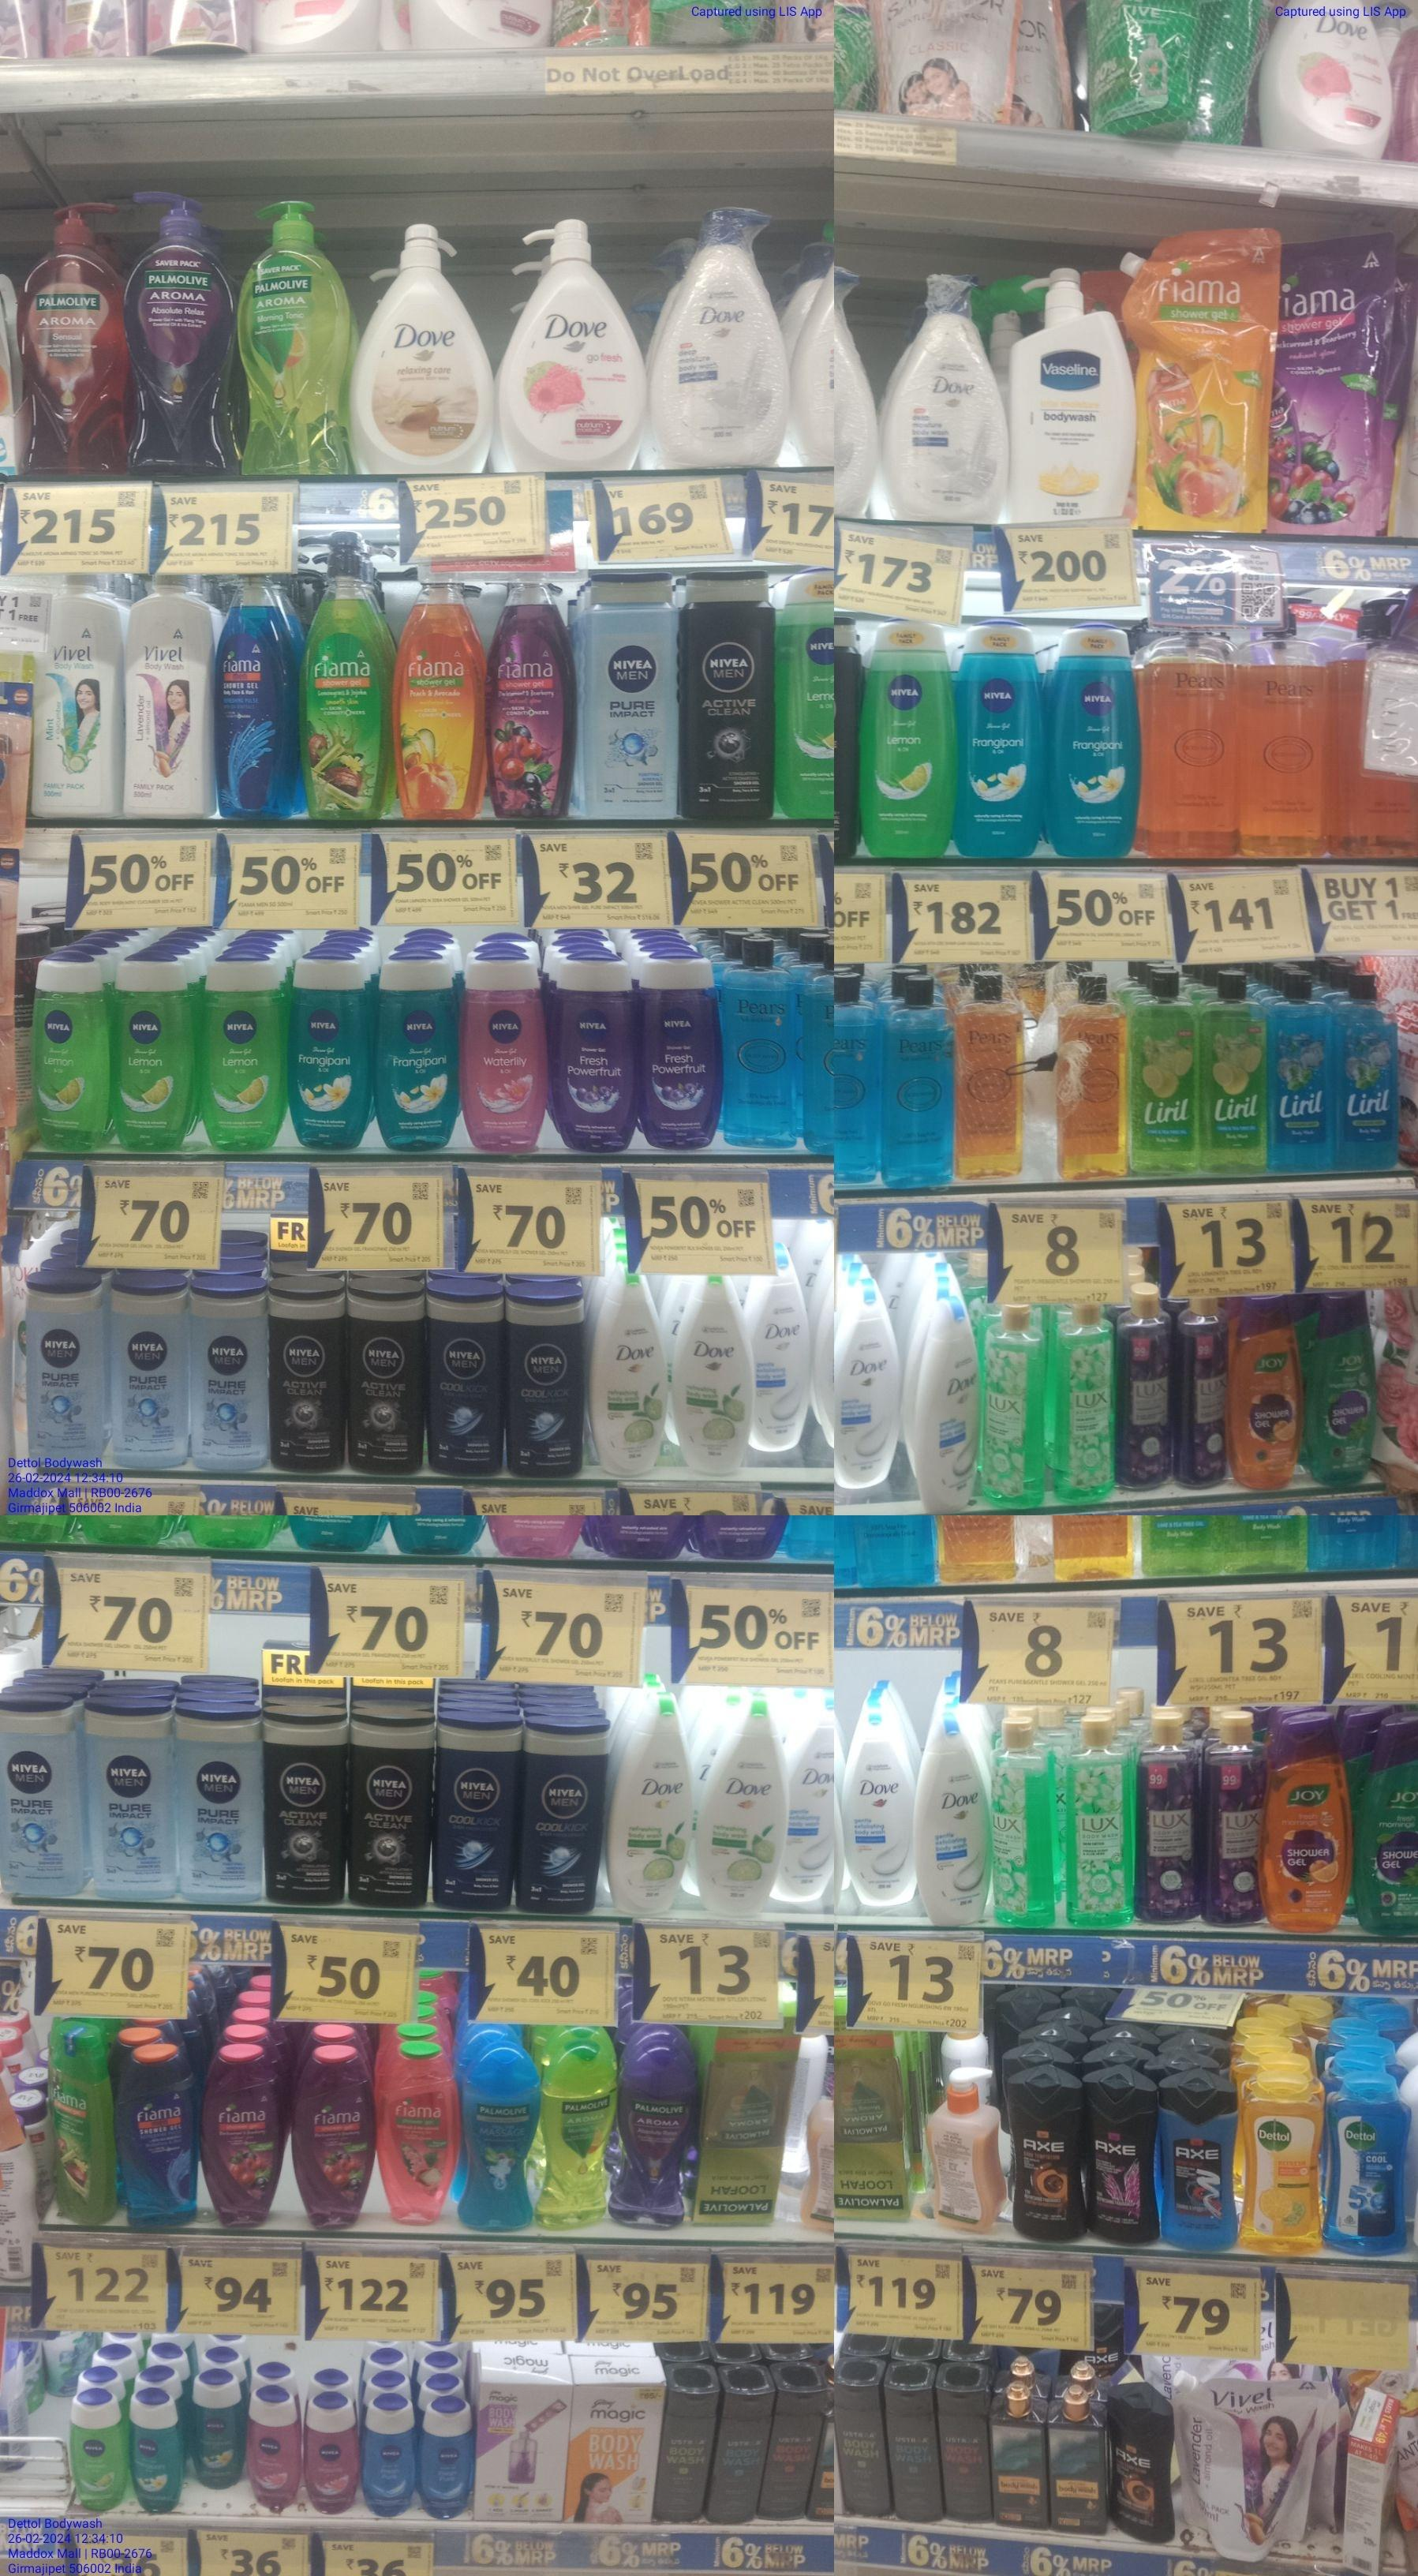Dettol_Bodywash_Cool: (1322, 2073, 1411, 2253)
Dettol_Bodywash_Refresh: (1233, 2064, 1324, 2251)
Dove_Gentle_Exfoliating_Body_Wash_250ML: (913, 1713, 995, 1926), (910, 1292, 983, 1514), (831, 1263, 899, 1493), (747, 1236, 819, 1455), (847, 1699, 910, 1907)
Dove_Refreshing_Body_Wash_250ML: (688, 1689, 786, 1916), (585, 1270, 672, 1484), (609, 1689, 690, 1919), (676, 1270, 758, 1471)
Fiama_Shower_Gel_Lemongrass_and_Jojoba_250ML: (45, 2014, 115, 2230)
Fiama_Shower_Gel_Patchouli_and_Macadamia_250ML: (381, 2040, 459, 2227)
Joy_Shower_Gel_Mandarin_and_Lemongrass_250ML: (1270, 1710, 1353, 1930), (1229, 1294, 1299, 1495)
Joy_Shower_Gel_Mint_and_Eucalyptus_250ML: (1299, 1282, 1378, 1490), (1360, 1713, 1418, 1937)
Lux_Black_Orchid_Scent_and_Juniper_Oil_Body_Wash_245ML: (1135, 1713, 1201, 1925), (1203, 1713, 1266, 1925), (1116, 1282, 1175, 1488), (1172, 1292, 1231, 1491)
Lux_Body_Wash_Skin_Detox_Freesia_Scent_and_Alove_Vera_245ML: (1062, 1708, 1135, 1930), (980, 1303, 1053, 1509), (992, 1713, 1057, 1926), (1055, 1298, 1116, 1504)
Nivea_Shower_Gel_Frangipani_and_Oil_250ML: (955, 615, 1051, 861), (1053, 616, 1142, 863), (374, 950, 463, 1151), (286, 954, 372, 1147)
Nivea_Shower_Gel_Fresh_Powerfruit_250ML: (636, 947, 723, 1147), (557, 943, 637, 1151)
Nivea_Shower_Gel_Lemon_and_Oil_250ML: (863, 620, 952, 858), (108, 945, 196, 1151), (28, 947, 108, 1161), (196, 950, 281, 1151), (68, 2384, 126, 2511)
Nivea_Shower_Gel_Waterlily_and_Oil_250ML: (466, 945, 550, 1153)
Palmolive_Aroma_Morning_Tonic_Shower_Gel_250ML: (538, 2045, 616, 2234)
Palmolive_Aroma_Relax_250ML: (616, 2038, 693, 2230)
